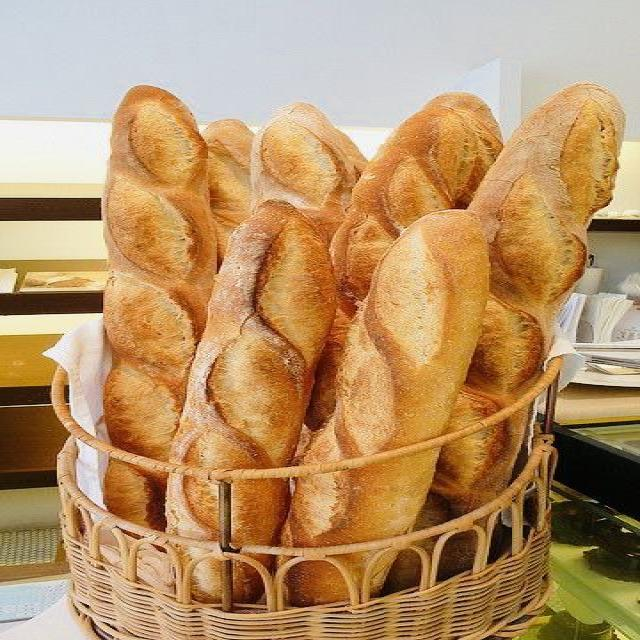bread: (308, 93, 501, 428), (450, 83, 623, 428), (304, 211, 488, 463), (173, 201, 335, 467), (104, 86, 216, 459), (333, 92, 501, 315), (251, 103, 355, 241), (203, 119, 254, 262), (336, 129, 367, 178)
